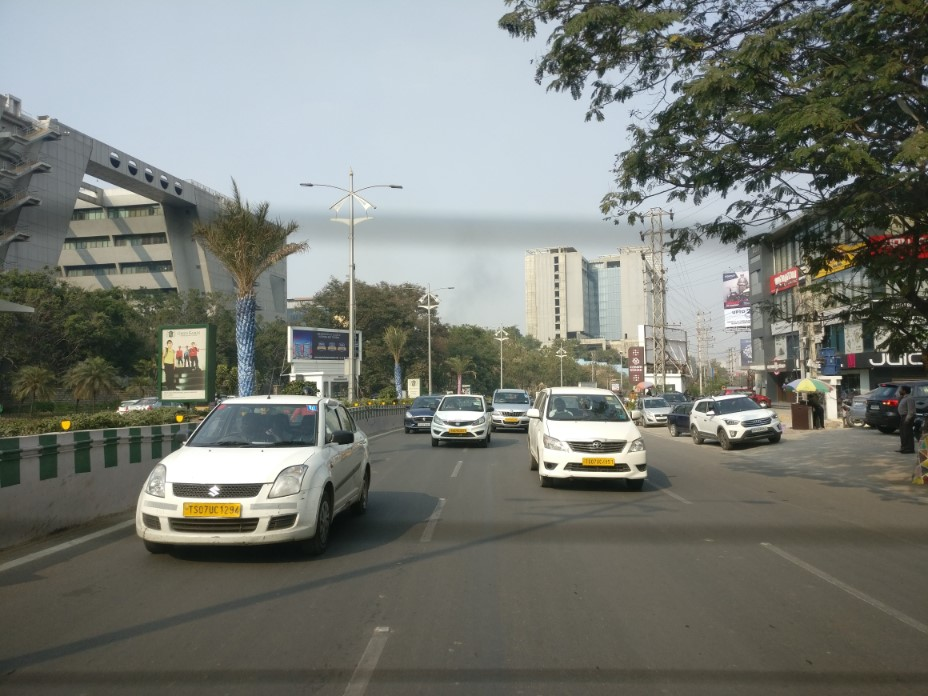swift desire: (135, 396, 374, 553)
